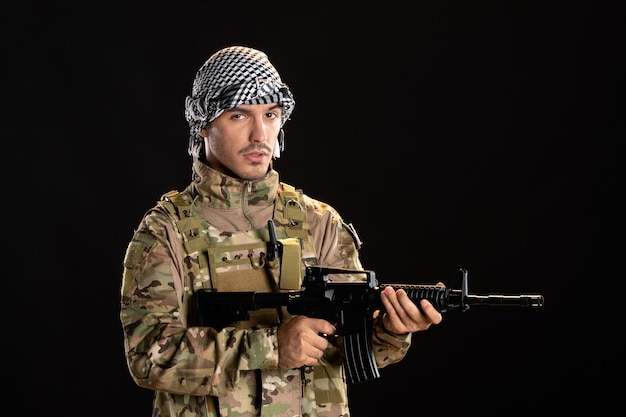gun: (182, 262, 545, 384)
